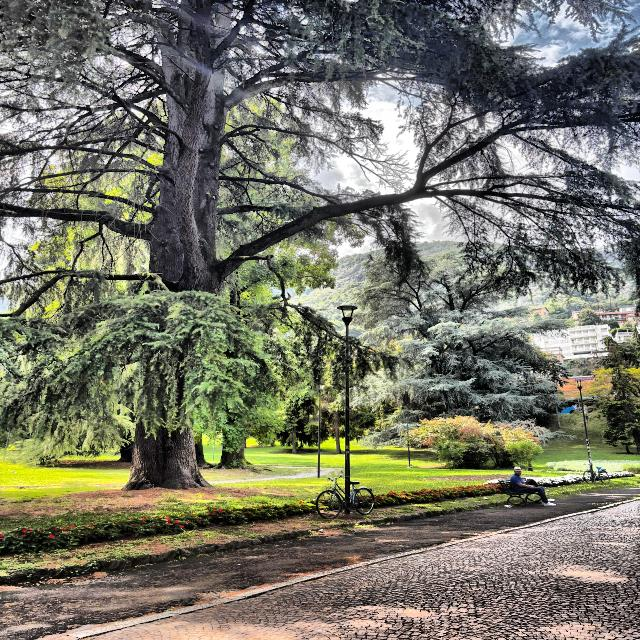arvore: (60, 0, 337, 482), (370, 240, 555, 412), (221, 288, 259, 466), (417, 417, 548, 467), (611, 323, 640, 453), (281, 384, 305, 454)
